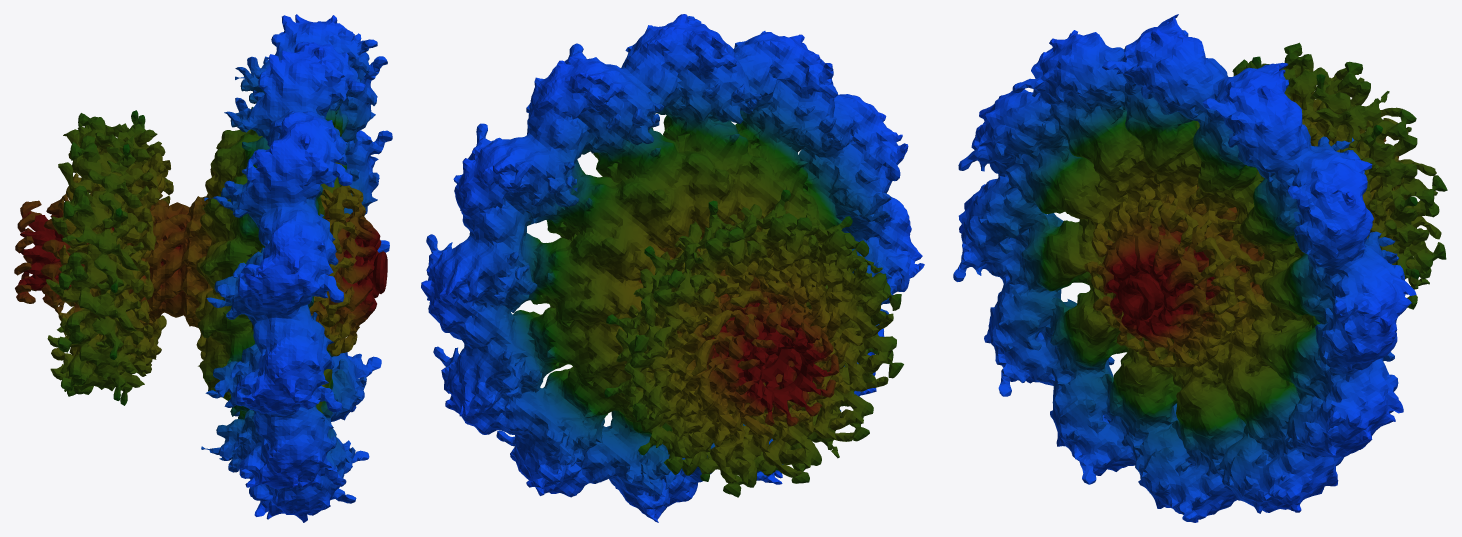
Rendered from DeathCel001.fbx.
3 renders of one model, left to right at view 1: azimuth 30°, elevation 25°; view 2: azimuth 150°, elevation 25°; view 3: azimuth 270°, elevation 25°, orthographic. The views are drawn at different scales.
Parts seen in each view (by area): view 1: apoptosome4.ply; view 2: apoptosome4.ply; view 3: apoptosome4.ply.
Boxes of the visible parts, <box> form: apoptosome4.ply: <box>14,14,392,522</box>; apoptosome4.ply: <box>421,14,924,522</box>; apoptosome4.ply: <box>953,14,1447,522</box>.
Size of the model in its own units: 2990 by 3341 by 3085.
